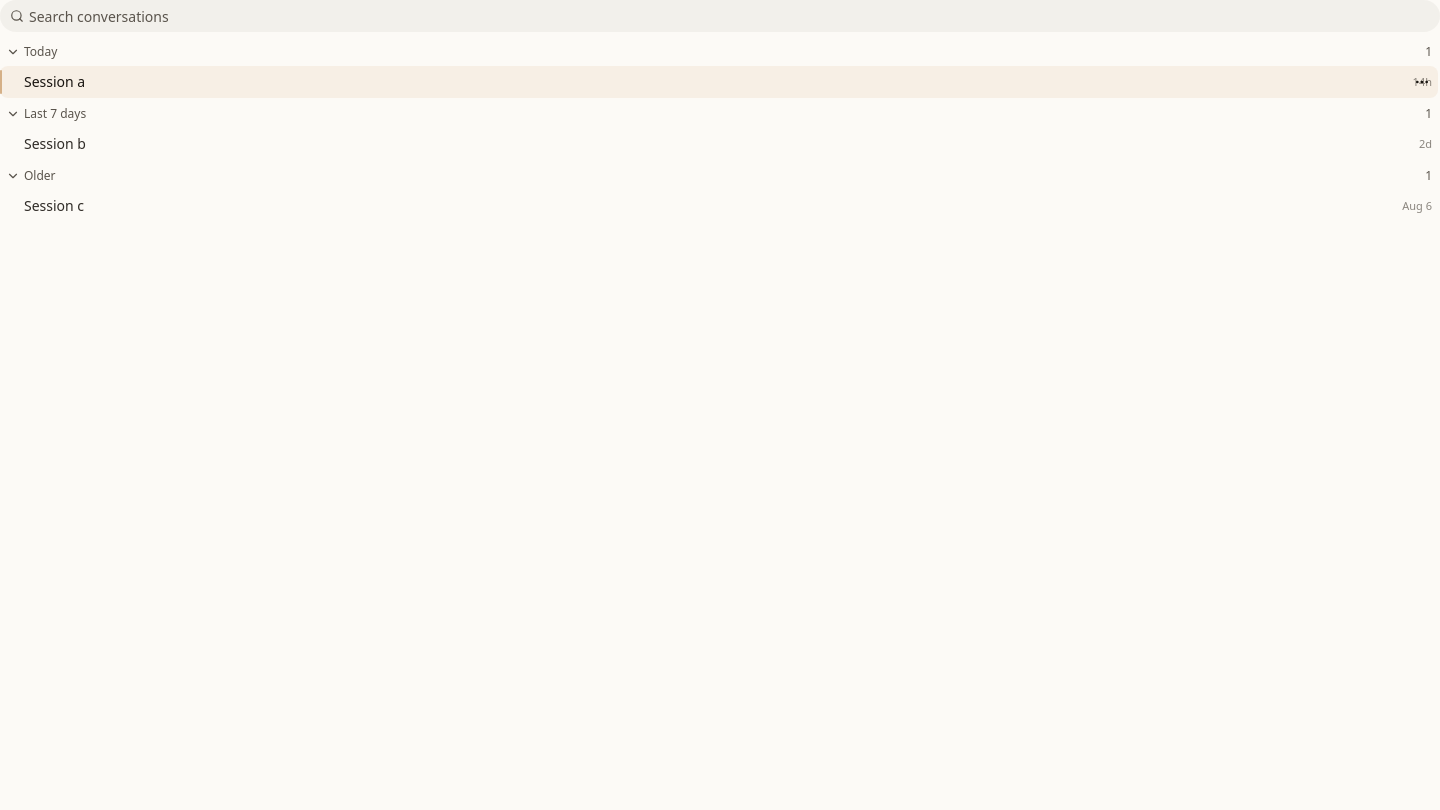
Test case: SessionSidebar — §5.6 delete rules › deleting the active session loads the most recent remaining session and NEVER creates
The image size is (1440, 810).
Step 1. Click the button named "Actions for Session a" → (1422, 82), box [1408,68,1436,96]
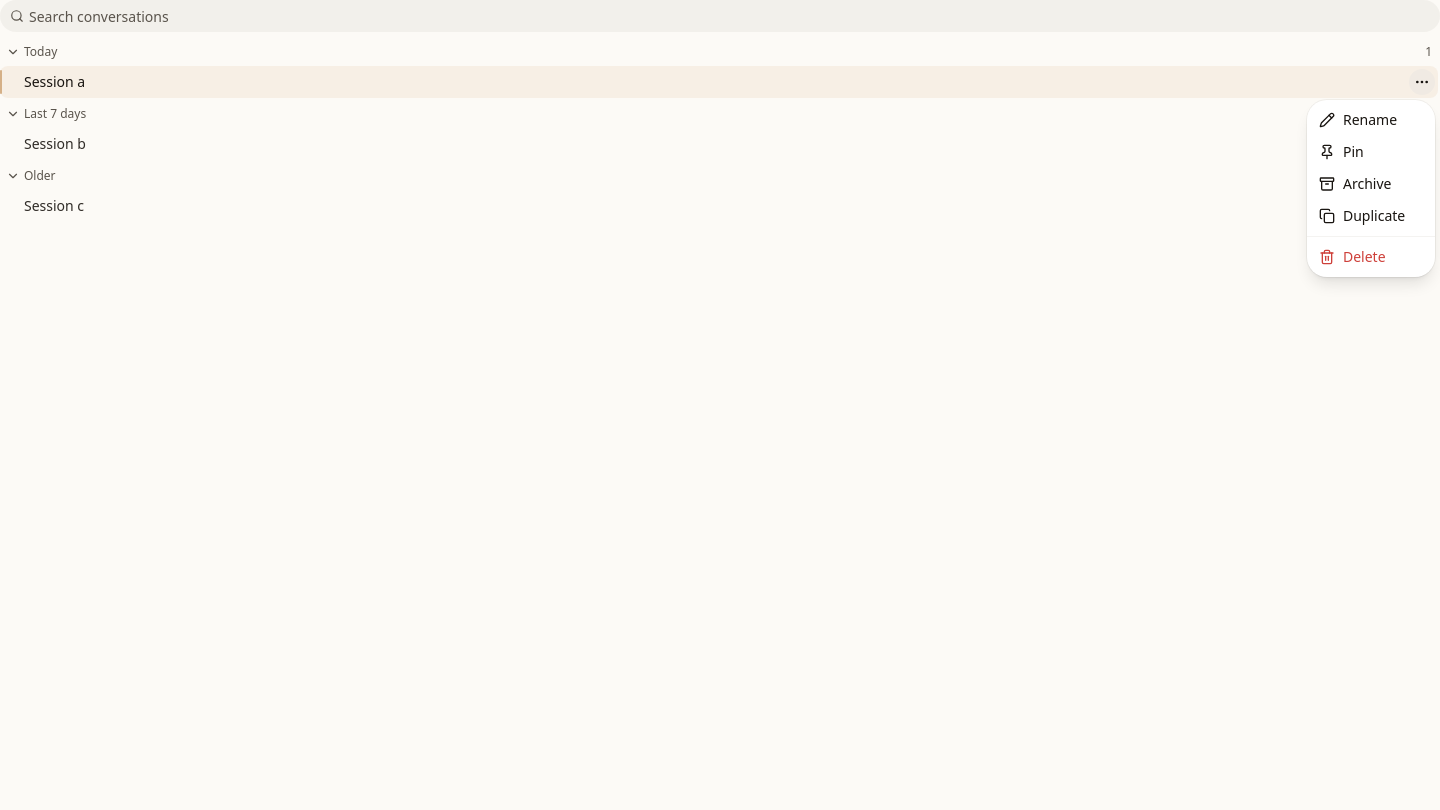
Step 2. Click the menu item "Delete" → (1352, 256), box [1319,247,1386,266]
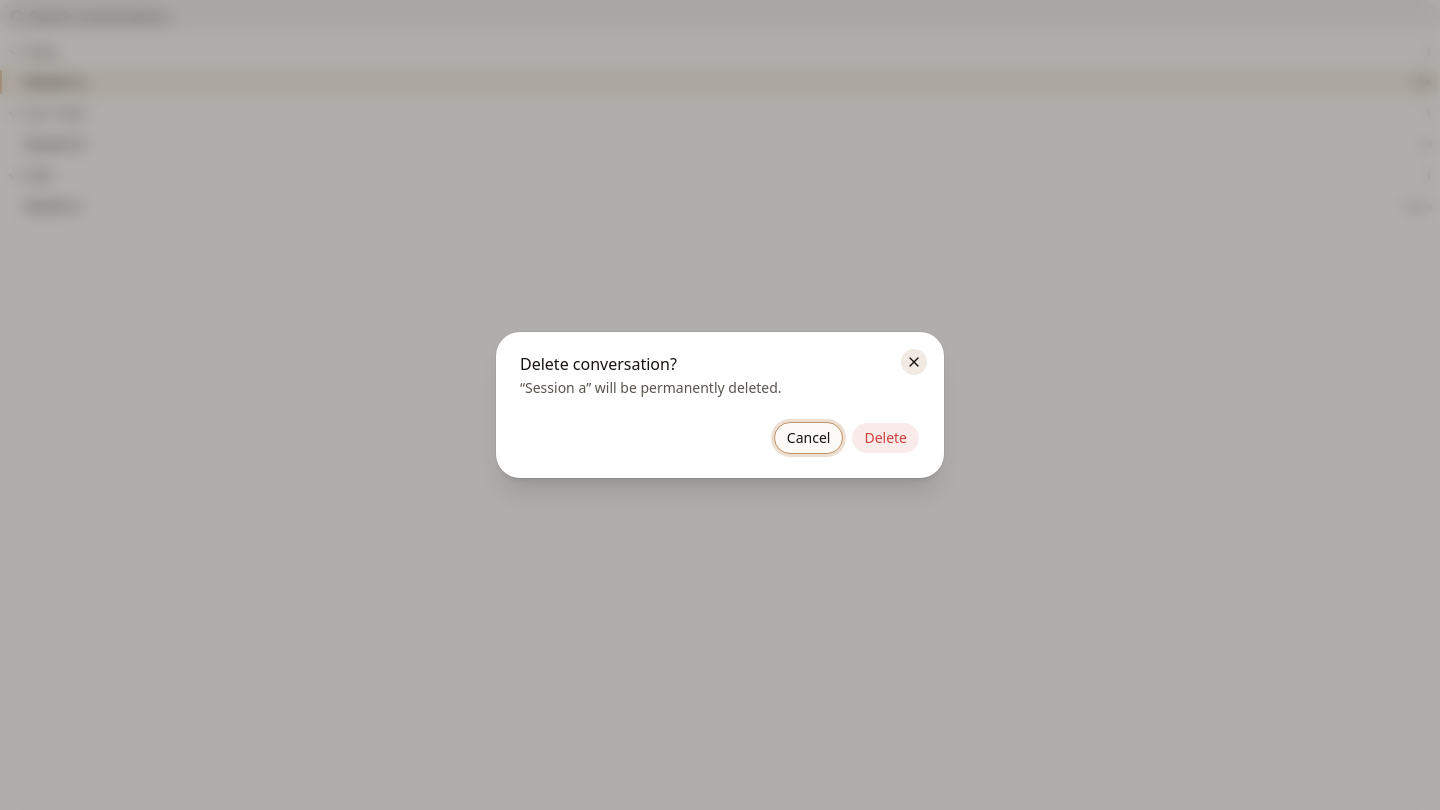
Step 3. Click the button "Delete" → (886, 438), box [851,422,920,454]
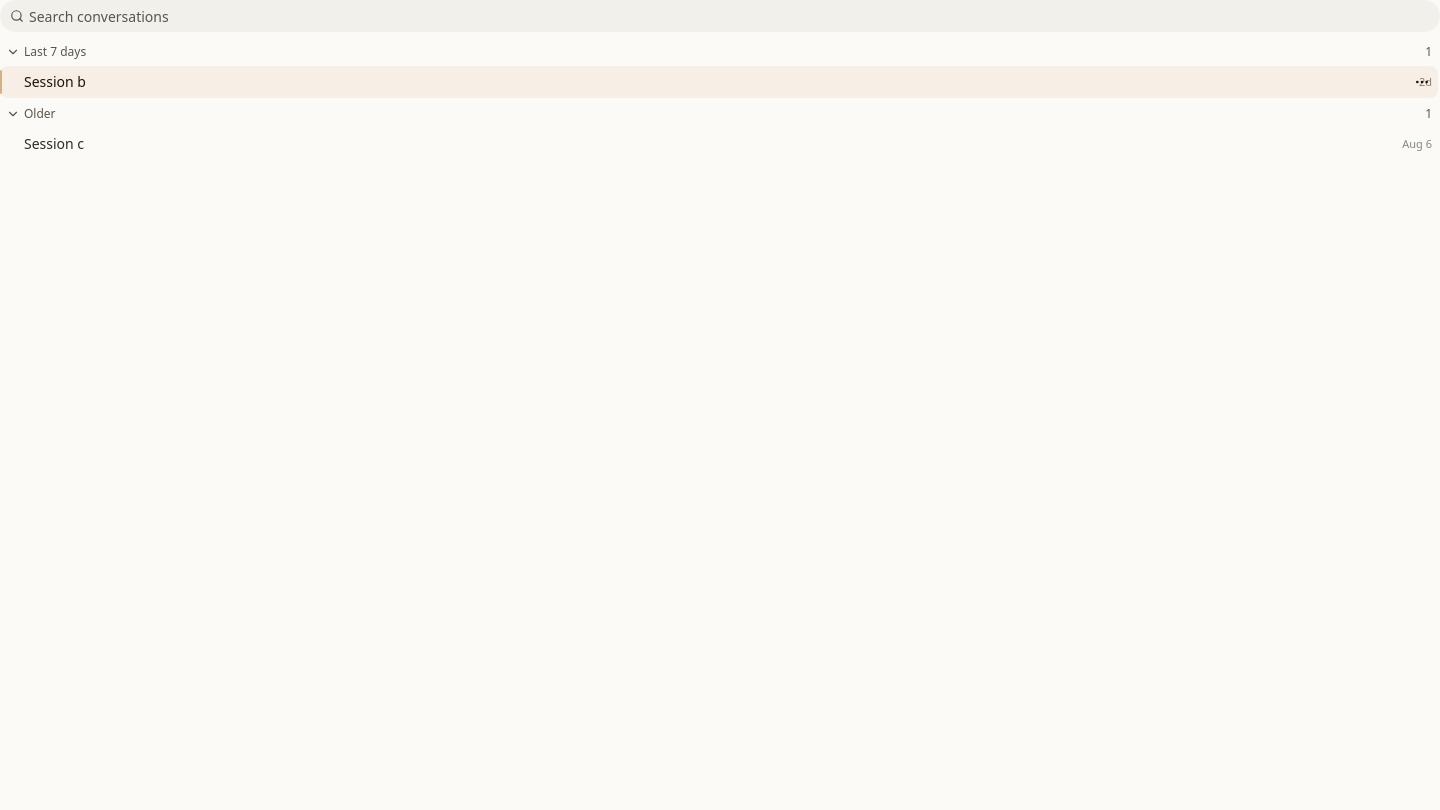
expect the list item with test id "session-row-a" is gone: met
